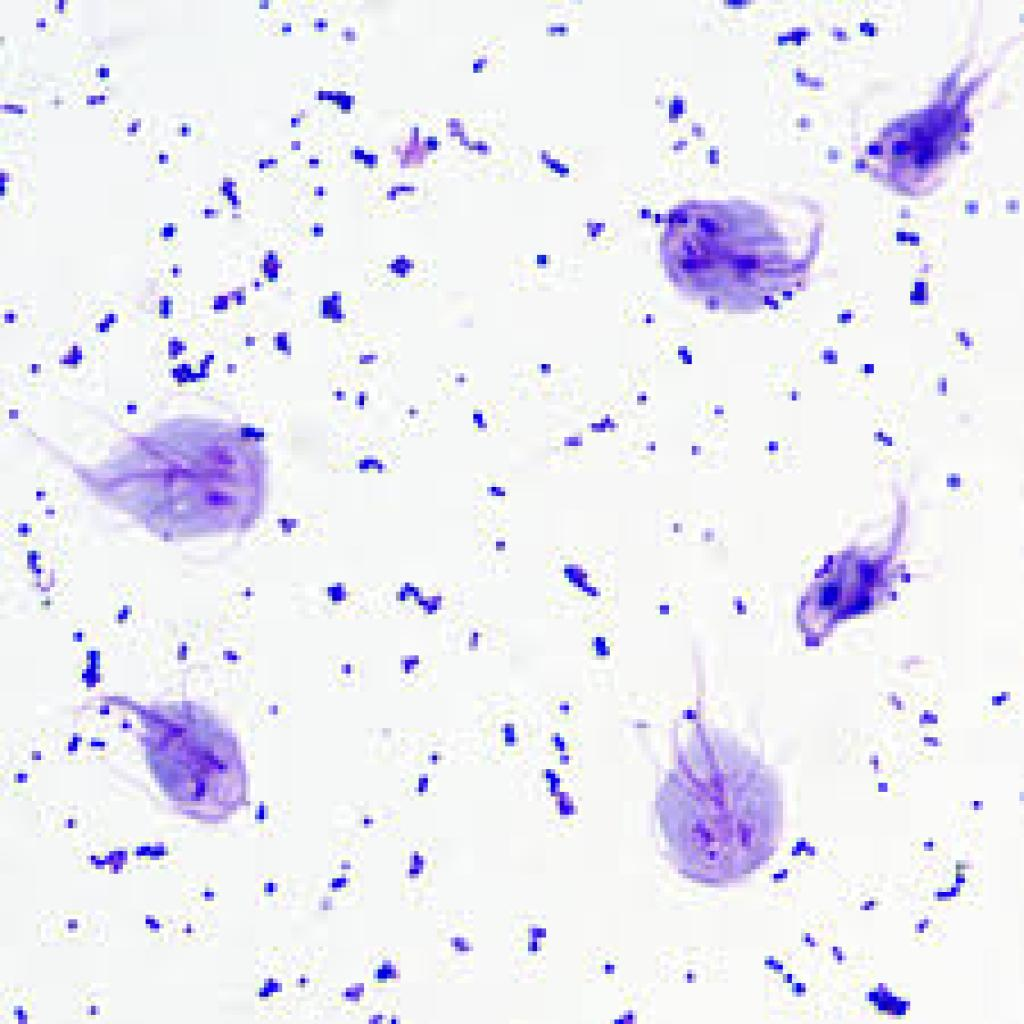Giardia: (46, 396, 273, 551), (637, 674, 792, 896), (846, 50, 1006, 205), (646, 186, 828, 318), (100, 674, 255, 828), (792, 496, 933, 651)
